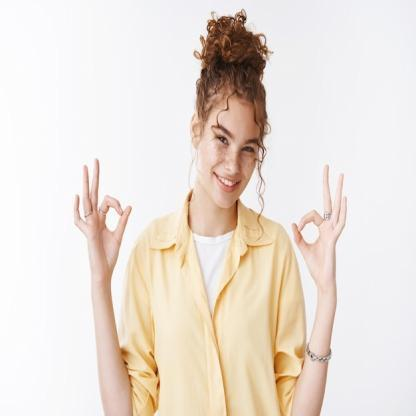ok: (72, 152, 134, 280), (290, 162, 350, 290)
